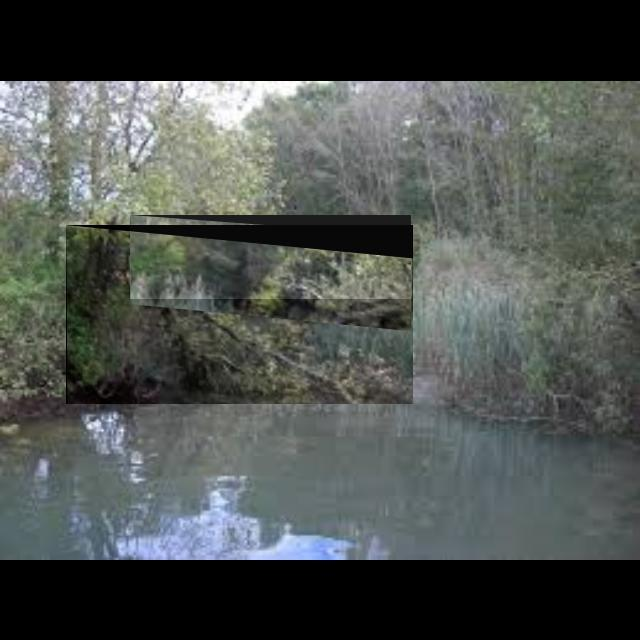fallen_tree: (66, 225, 414, 405), (130, 215, 412, 299)
